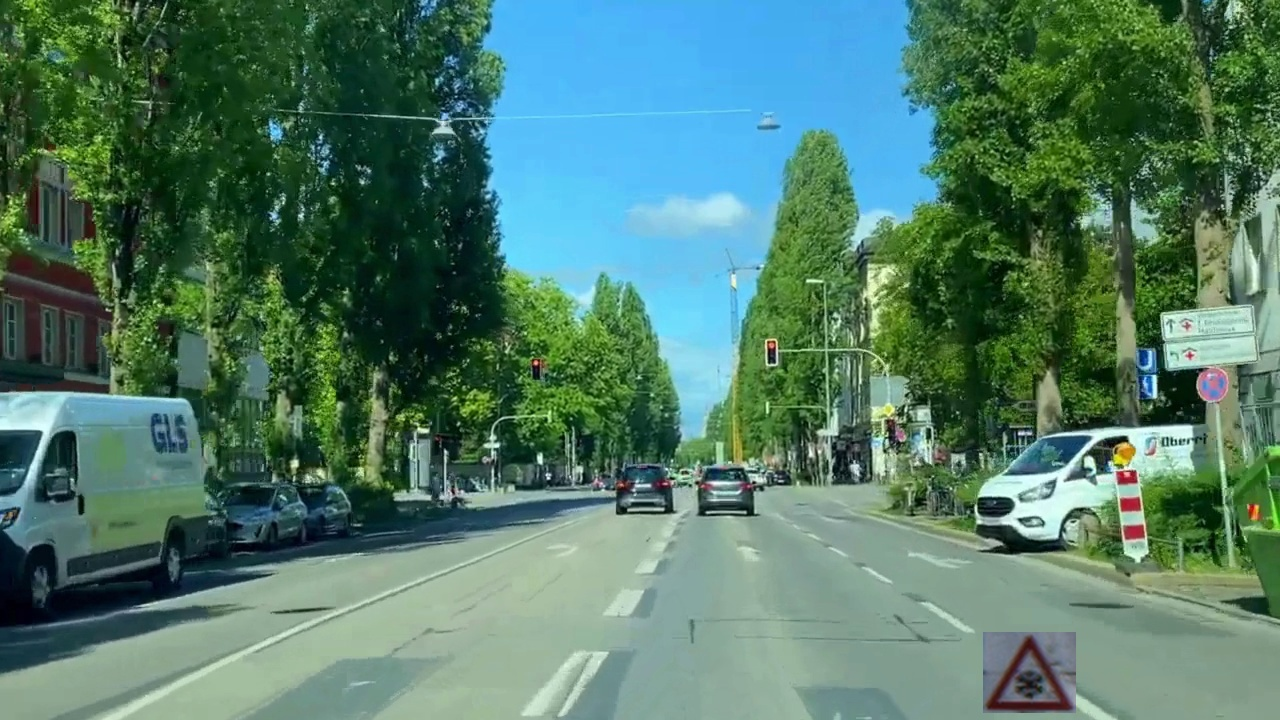Ice/snow: (983, 632, 1076, 713)
